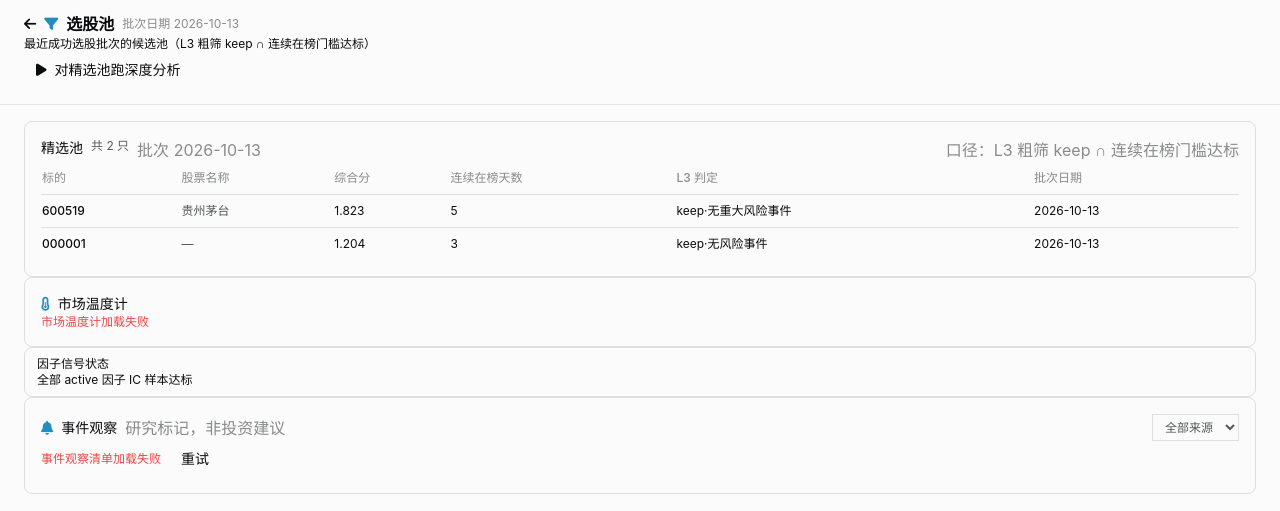
选股页（add-screening-pipeline T4） › hover 综合分 → 浮层按 |contribution| 降序展示 factor_contribs
The image size is (1280, 511).
Expected: the table with test id "screening-pool-table" is shown, [41,162,1239,260]
Hover over the cell with test id "screening-score-600519" at (349, 210), box [333,194,449,228]
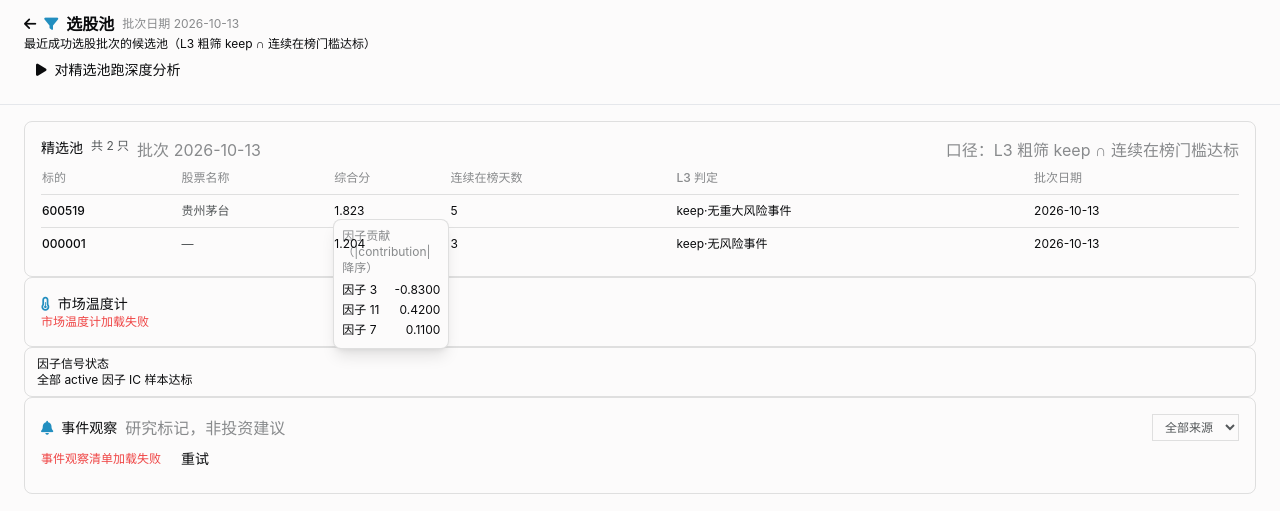
Now the element with test id "screening-contribs-tooltip" shows "因子 3", box [333,219,449,349]
Now the element with test id "screening-contribs-tooltip" shows "-0.8300", box [394,282,440,297]
Now the element with test id "screening-contribs-tooltip" shows "0.4200", box [400,302,440,317]
Move the pointer off the cell with test id "screening-score-600519", box [333,194,449,228]
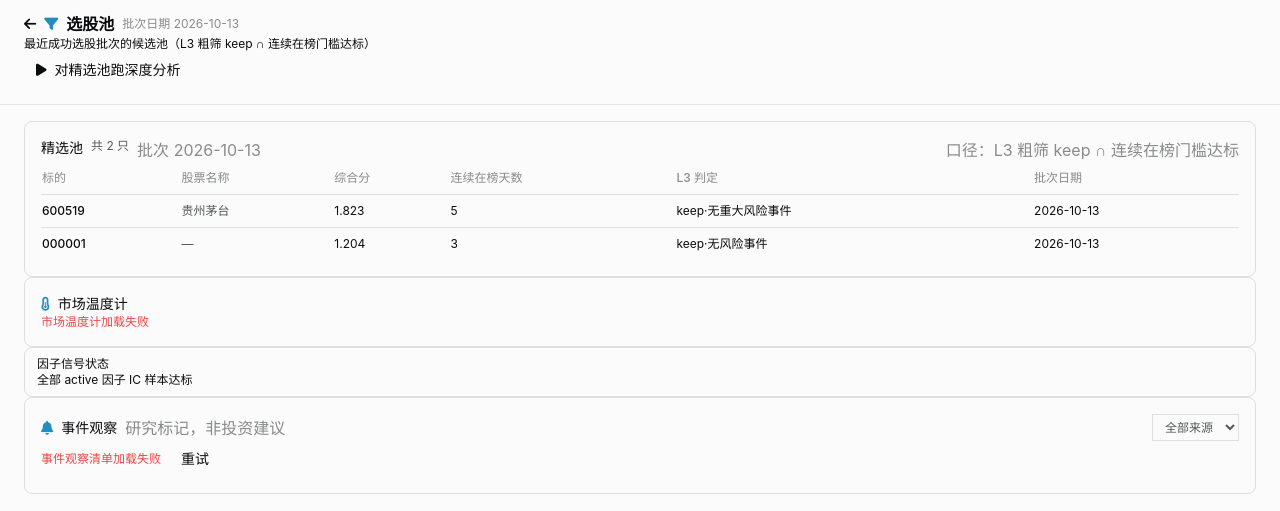
Now the element with test id "screening-contribs-tooltip" is gone
